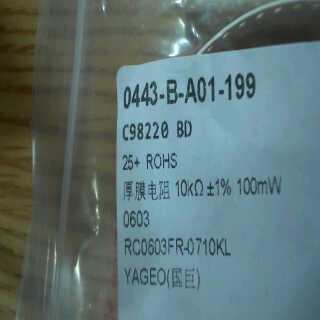10kR: (170, 174, 210, 206)
